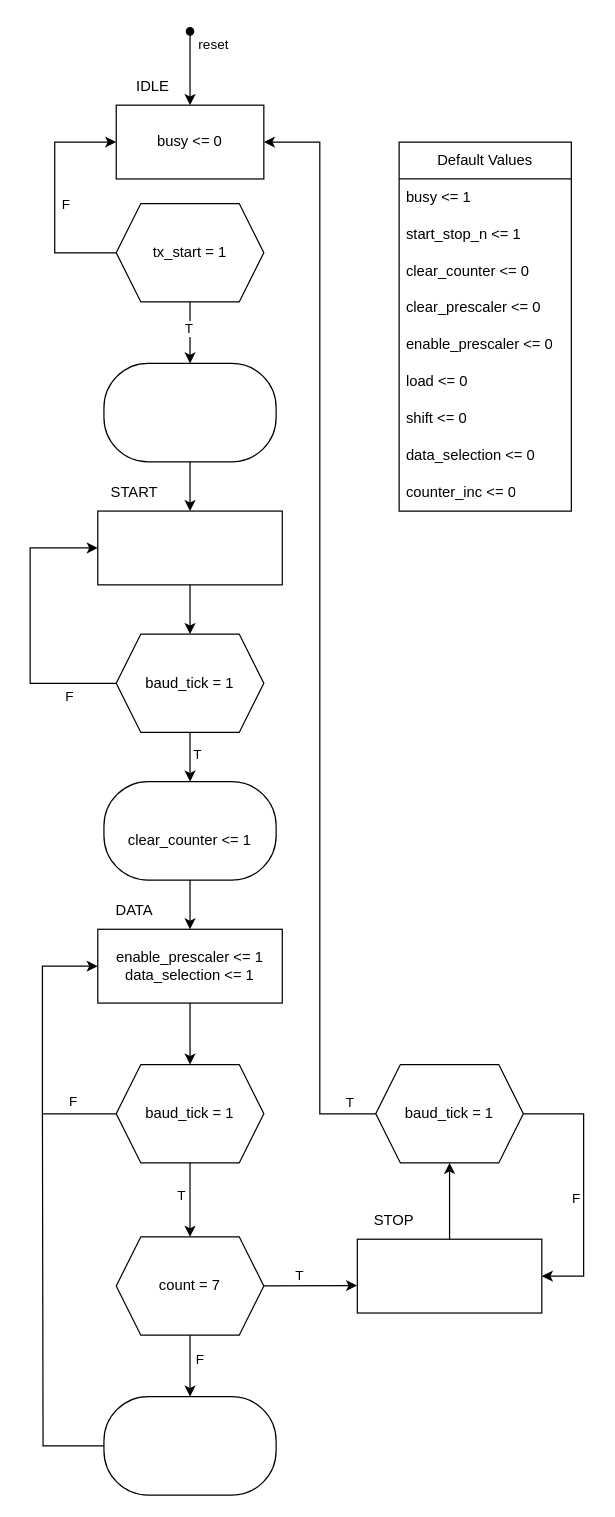
Image size: 615x1517. Some labels were removed from this diagram. Each missing label, with the centre of its shape:
"clear_prescaler <= 1 load <= 1" belongs at [189,412].
"enable_prescaler <= 1" belongs at [449,1275].
"enable_prescaler <= 1 start_stop_n <= 0" belongs at [189,547].
"shift <= 1 counter_inc <= 1" belongs at [189,1445].
